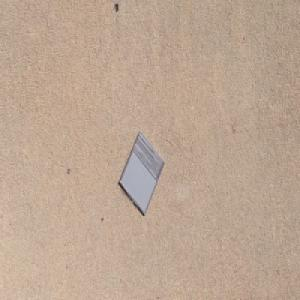PlasticPart: (119, 130, 166, 216)
